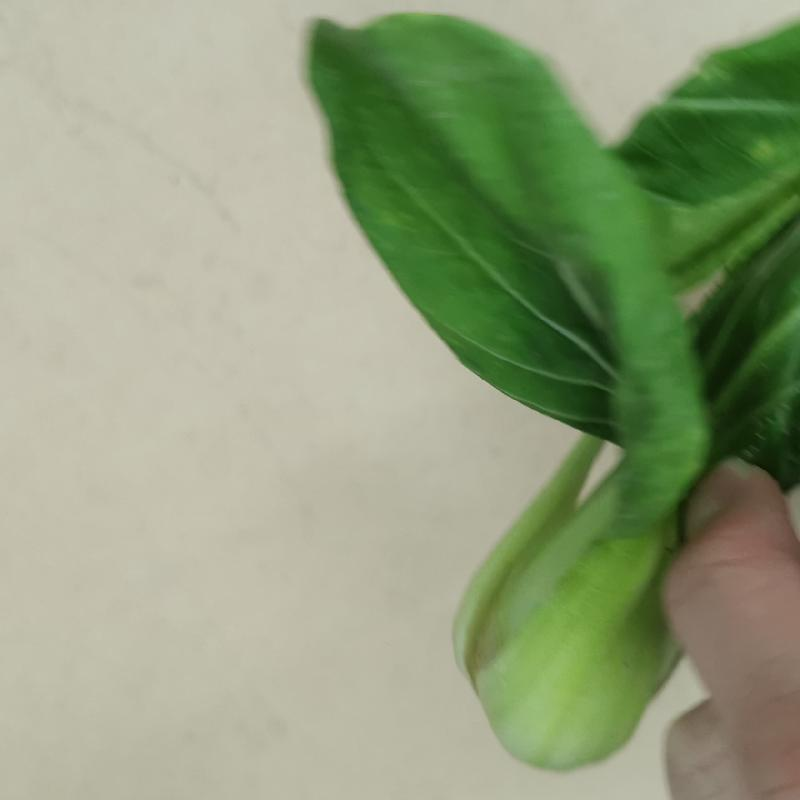green vegatable: (296, 13, 800, 771)
